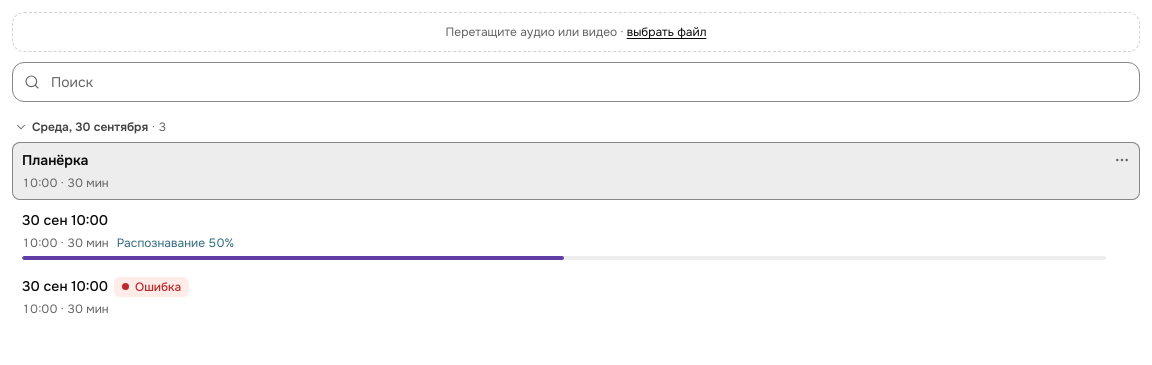
Test: зона импорта: выбрать файл в браузере — сообщение, без пути
Expected: the text "Перетащите аудио или видео · выбрать файл" is shown, [12,12,1140,52]
Click the button "выбрать файл". click: (666, 32)
box: [627,23,706,41]
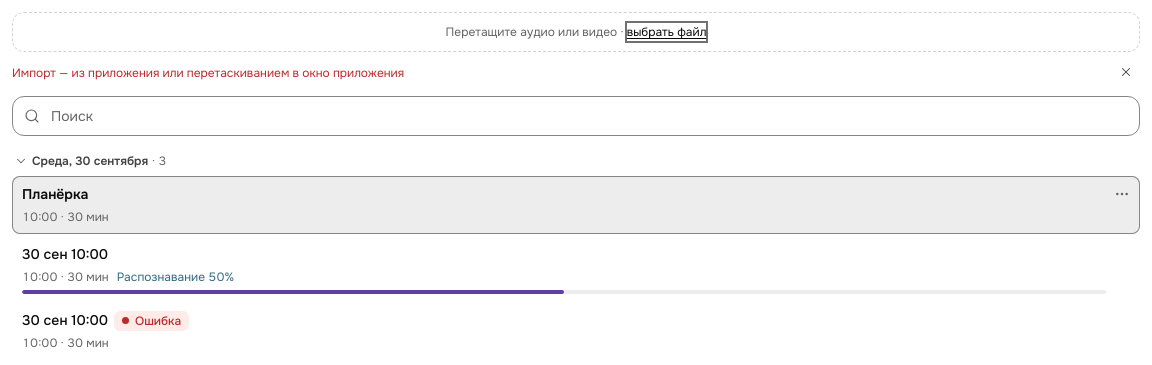
Expected: the text "Импорт — из приложения или перетаскиванием в окно приложения" is shown, [12,65,404,81]
